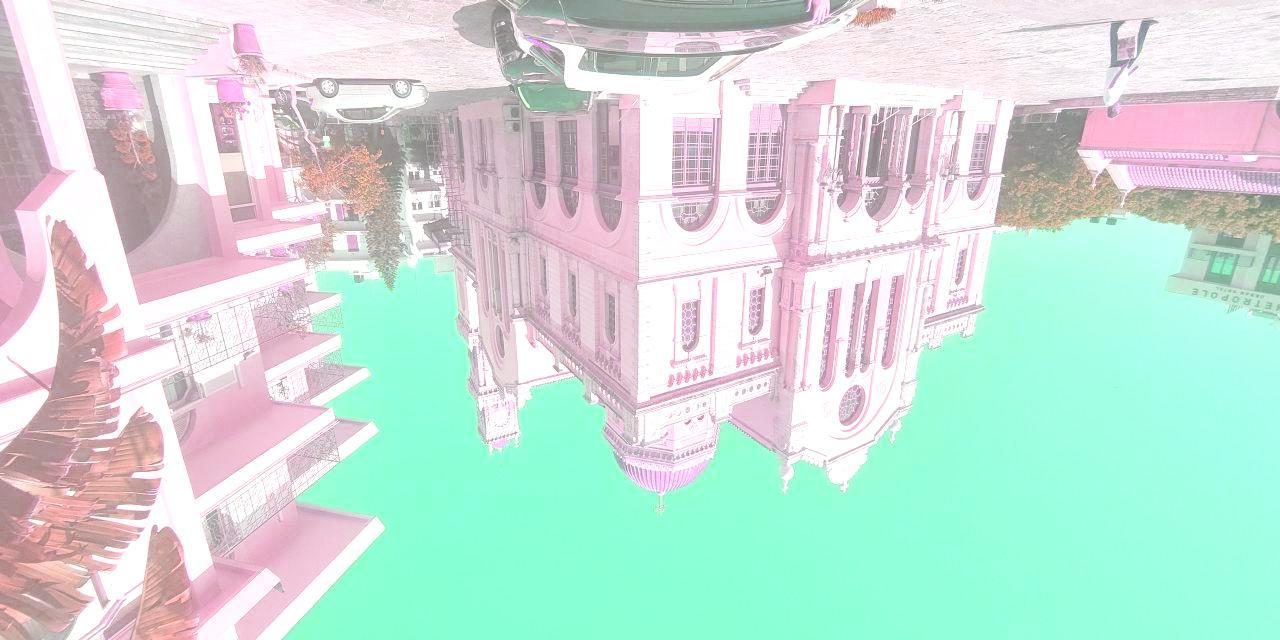Agios Minas: (440, 79, 1019, 529)
